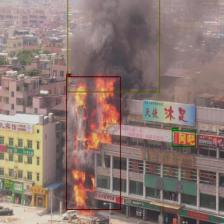fire: (66, 76, 121, 210)
smoke: (67, 0, 160, 92)
